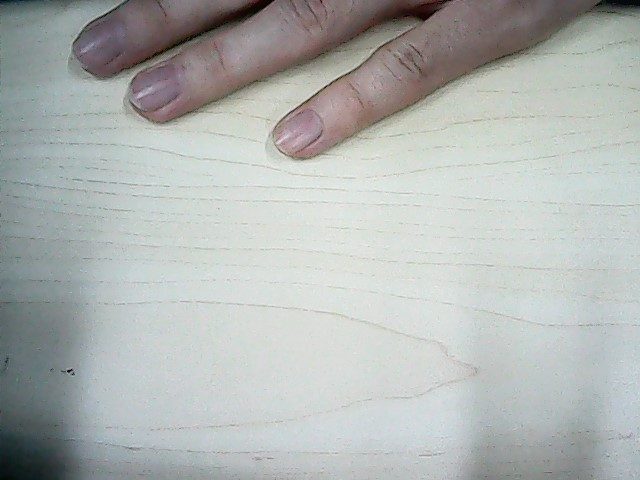nail: (71, 20, 127, 71), (269, 108, 324, 158), (131, 61, 182, 112)
